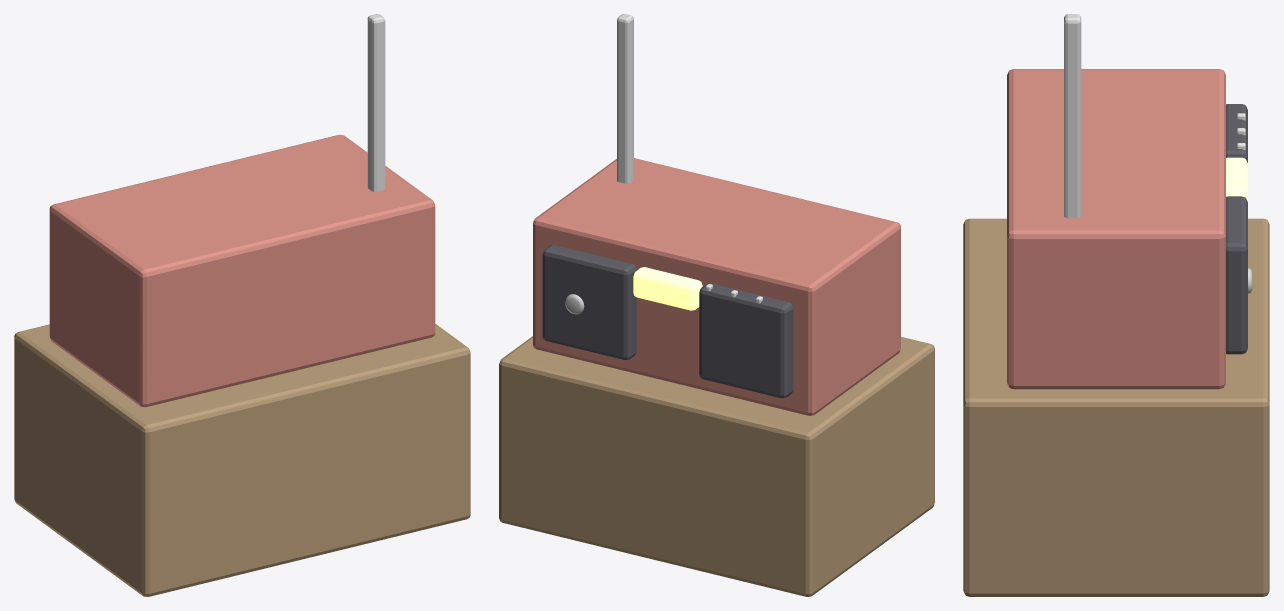
File: радио.glb
3 renders of one model, left to right at view 1: azimuth 30°, elevation 25°; view 2: azimuth 150°, elevation 25°; view 3: azimuth 270°, elevation 25°, orthographic. The views are drawn at different scales.
Parts seen in each view (by area): view 1: радио; view 2: радио; view 3: радио.
Part boxes in pixels (<box>): радио: <box>14,14,470,596</box>; радио: <box>499,14,934,596</box>; радио: <box>963,14,1269,596</box>.
Size of the model in its own units: 1 by 1.4 by 0.7.
